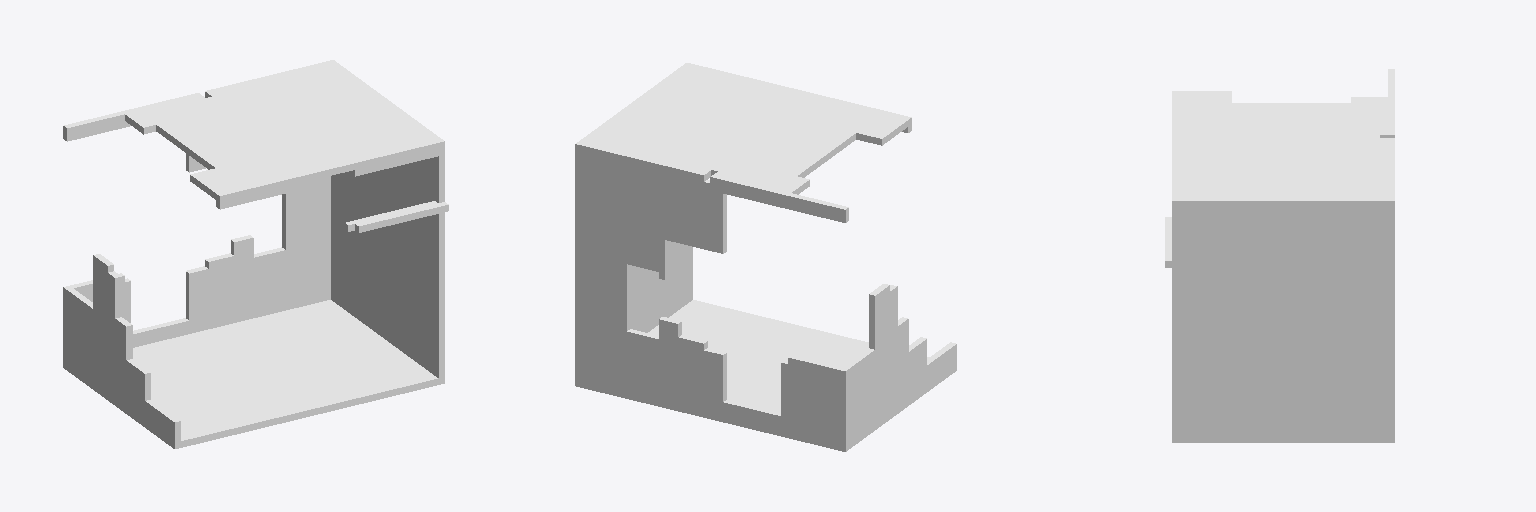
The model's file is store_broken0.obj.
3 views of the same model, side by side, from view 1: azimuth 30°, elevation 25°; view 2: azimuth 150°, elevation 25°; view 3: azimuth 270°, elevation 25° (orthographic).
Parts seen in each view (by area): view 1: store_broken0; view 2: store_broken0; view 3: store_broken0.
Boxes of the visible parts, <box> form: store_broken0: <box>63,60,448,448</box>; store_broken0: <box>575,63,956,451</box>; store_broken0: <box>1165,69,1394,442</box>.
Bounding box in the file's own units: 42 × 36 × 31.